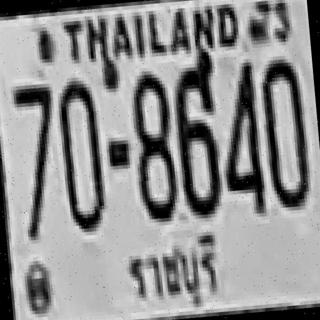N00: (258, 54, 310, 208), (55, 76, 107, 230)
N04: (214, 57, 264, 214)
N06: (170, 59, 222, 216)
N07: (10, 80, 62, 230), (10, 78, 58, 183)
N08: (128, 66, 178, 220)
P52: (116, 228, 230, 319)
